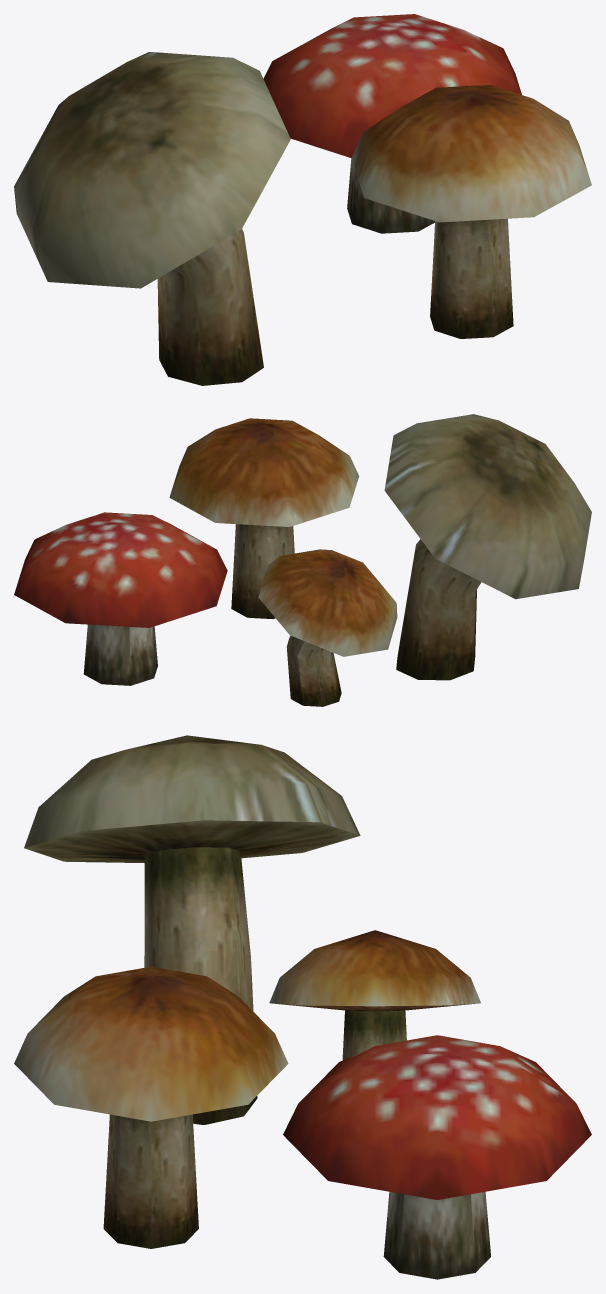
The model's file is mogu_011.FBX.
3 views of the same model, one above another, from view 1: azimuth 30°, elevation 25°; view 2: azimuth 150°, elevation 25°; view 3: azimuth 270°, elevation 25° (orthographic). The views are drawn at different scales.
Visible parts, largest first — view 1: mogu_011_02; view 2: mogu_011_02; view 3: mogu_011_02.
Boxes of the visible parts, <box> form: mogu_011_02: <box>14,14,591,385</box>; mogu_011_02: <box>14,414,591,706</box>; mogu_011_02: <box>14,735,591,1279</box>.
Bounding box in the file's own units: 1.76 × 0.8771 × 1.36.
